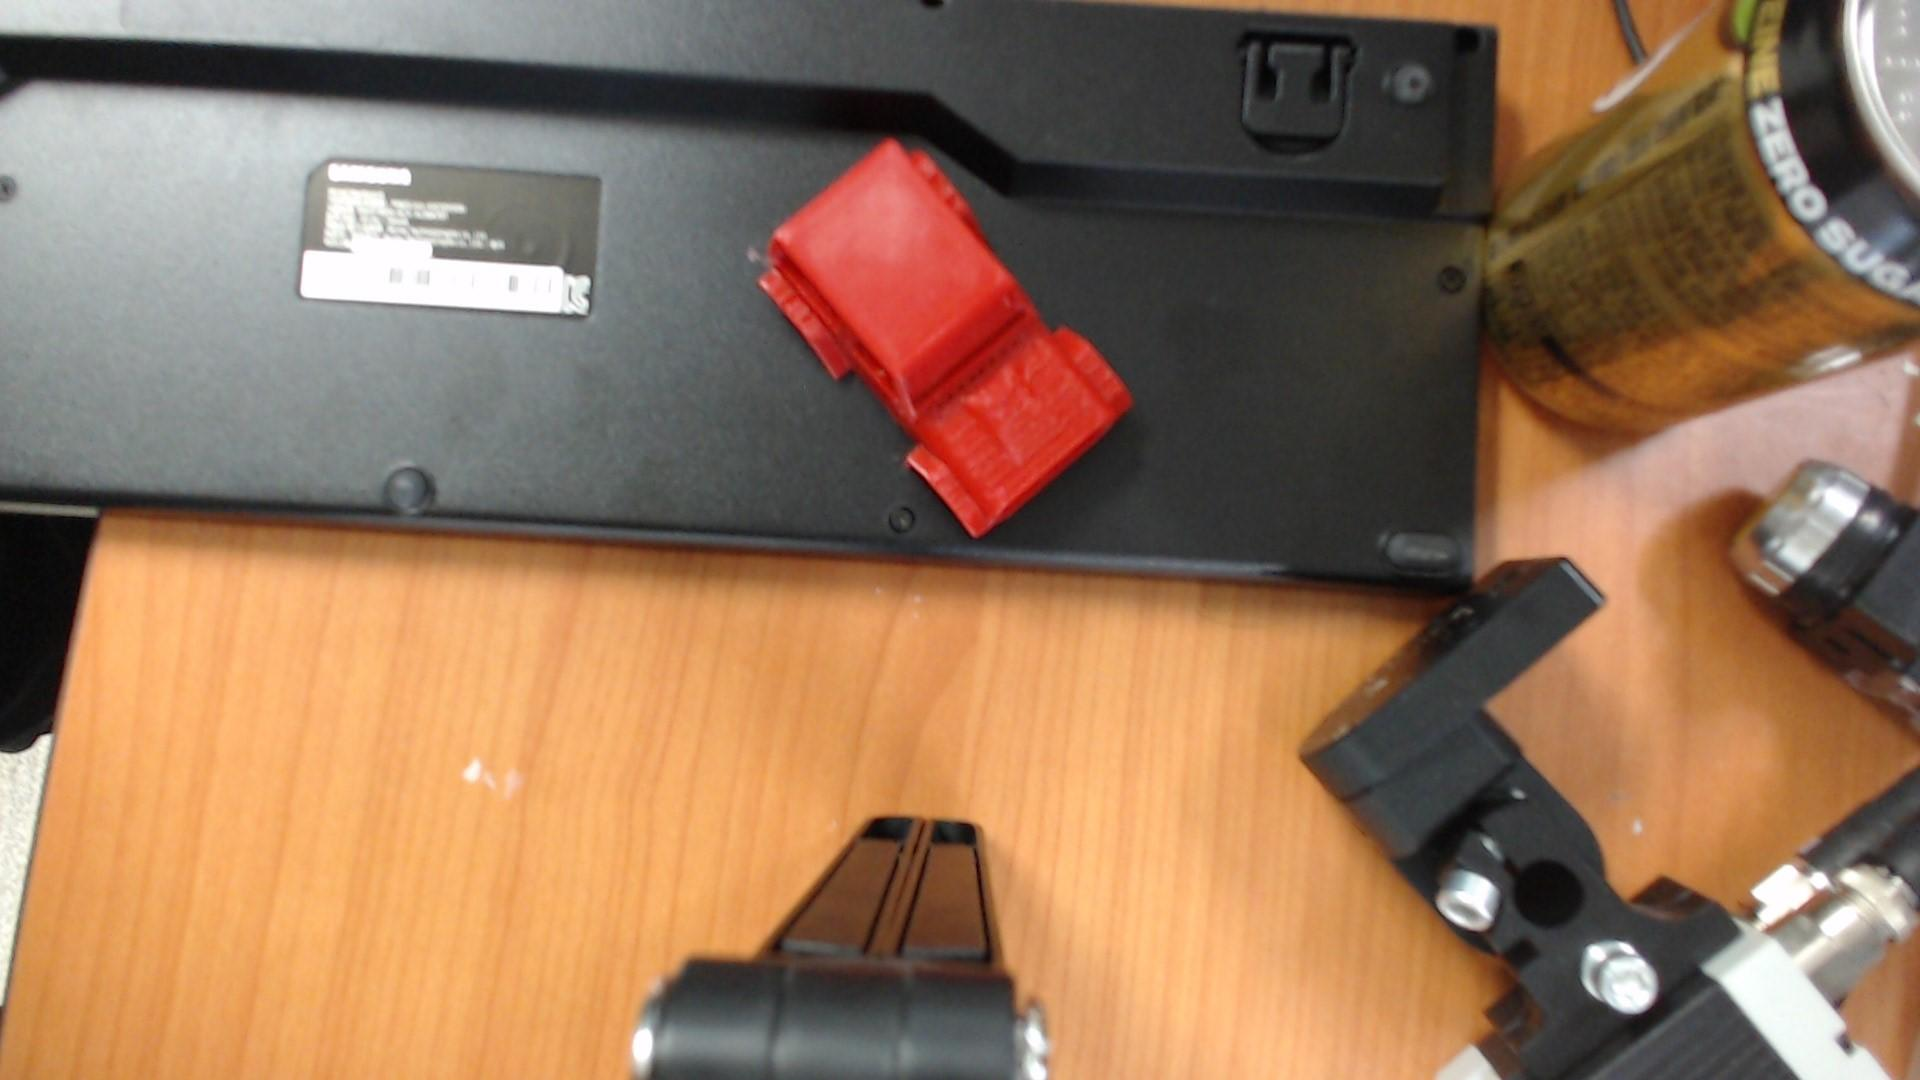Upper_ok: (760, 138, 1131, 537)
